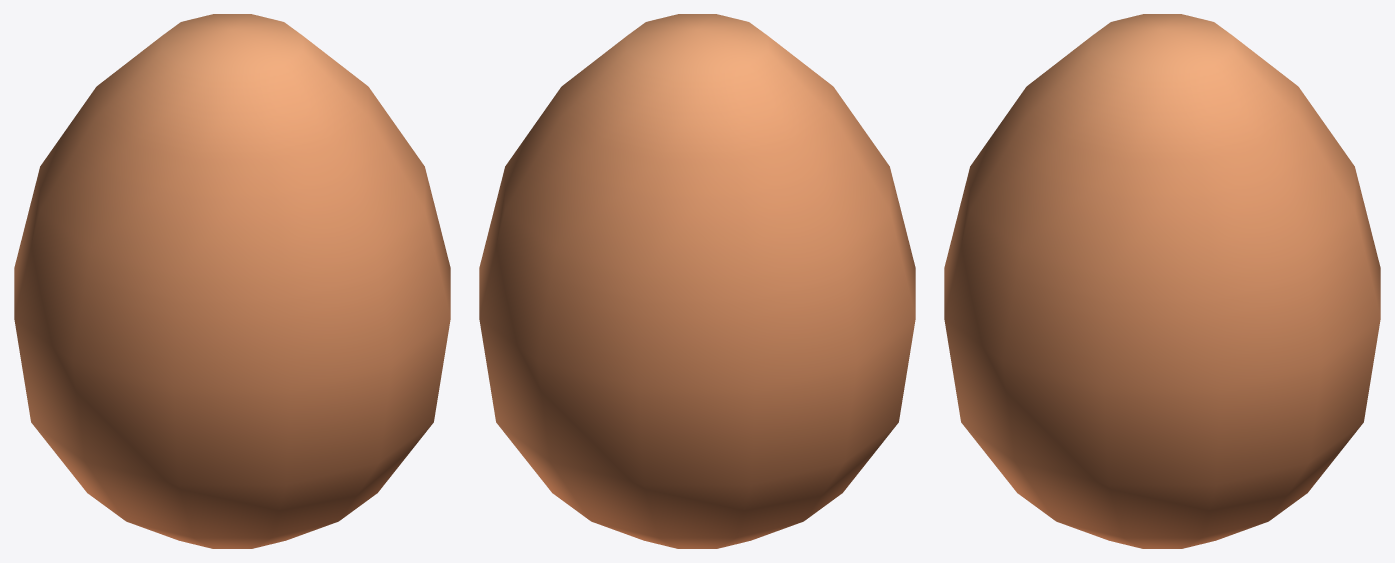
File: egg-b.glb
3 renders of one model, left to right at view 1: azimuth 30°, elevation 25°; view 2: azimuth 150°, elevation 25°; view 3: azimuth 270°, elevation 25°, orthographic.
Visible parts, largest first — view 1: egg_B; view 2: egg_B; view 3: egg_B.
Boxes of the visible parts, <box> form: egg_B: <box>14,14,450,548</box>; egg_B: <box>479,14,915,548</box>; egg_B: <box>944,14,1380,548</box>.
Bounding box in the file's own units: 0.2448 × 0.3077 × 0.2448.
Materials: 1 (1 with a texture image).
